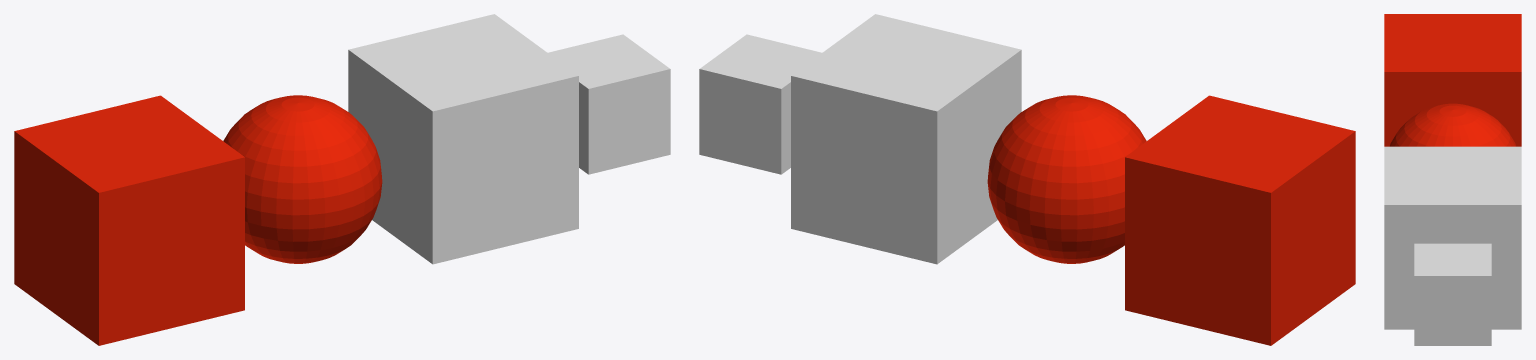
3 views of the same model, side by side, from view 1: azimuth 30°, elevation 25°; view 2: azimuth 150°, elevation 25°; view 3: azimuth 270°, elevation 25° (orthographic). The views are drawn at different scales.
Visible parts, largest first — view 1: box, big box, parent, small box; view 2: box, big box, parent, small box; view 3: big box, box, small box, parent.
Part boxes in pixels (x1,y1,x2,y2): box: [14, 95, 244, 345]; big box: [348, 14, 578, 264]; parent: [223, 95, 382, 263]; small box: [548, 34, 670, 174]; box: [1125, 95, 1355, 345]; big box: [791, 14, 1021, 264]; parent: [987, 95, 1146, 263]; small box: [699, 34, 821, 174]; big box: [1384, 146, 1521, 329]; box: [1384, 14, 1521, 146]; small box: [1414, 243, 1491, 345]; parent: [1389, 103, 1516, 146].
Bounding box in the file's own units: 8.07 × 2 × 2.
